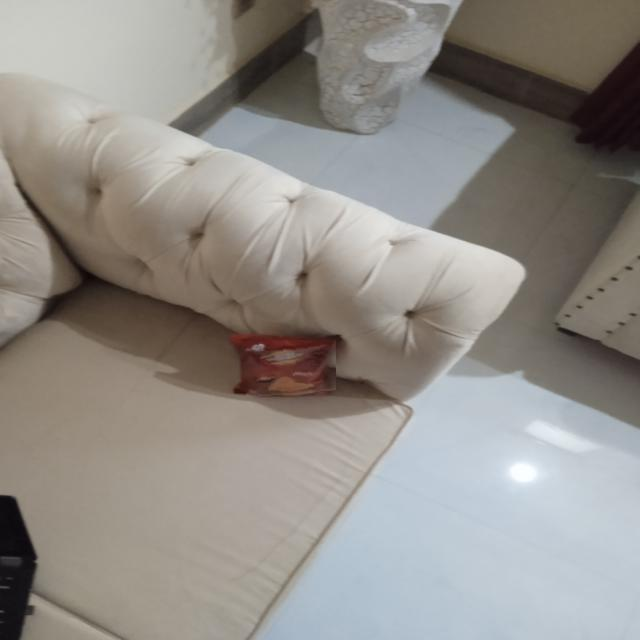Plastic: (240, 340, 336, 398)
